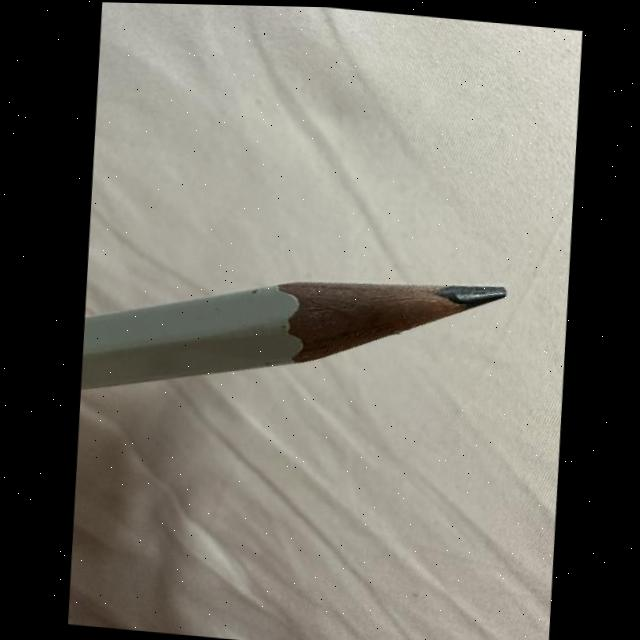pencil: (78, 240, 511, 428)
